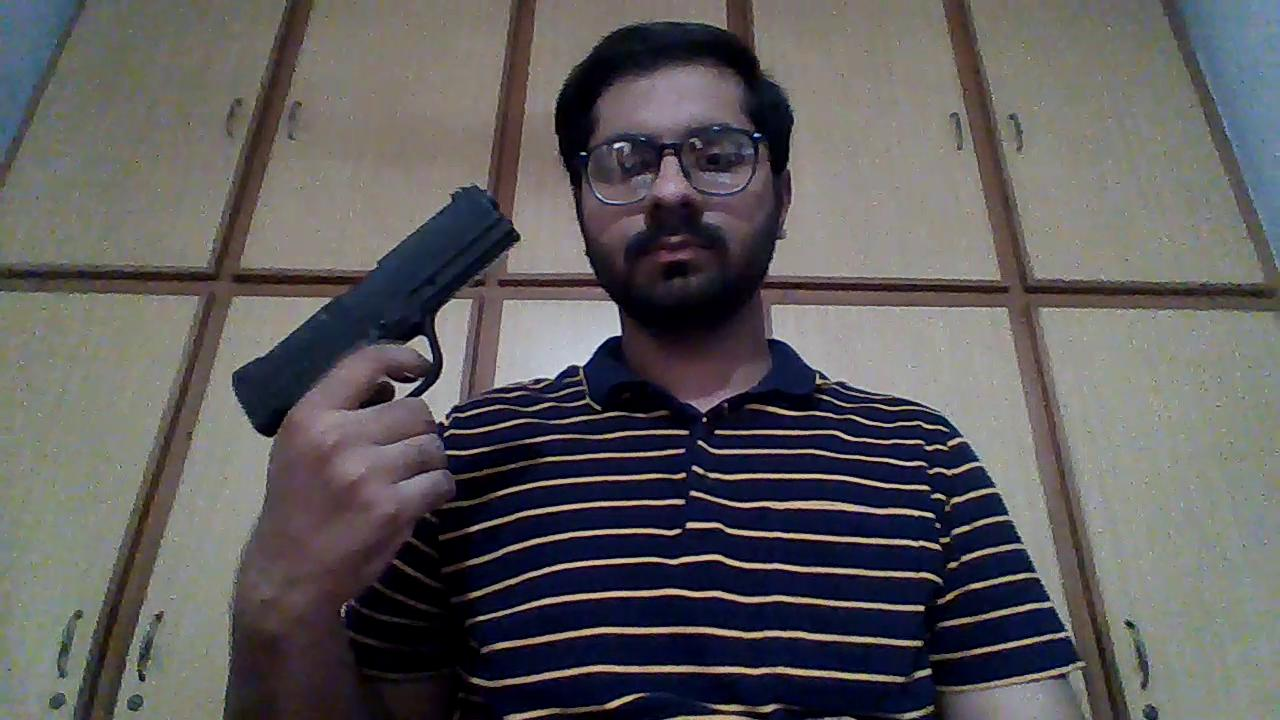criminal: (221, 19, 1095, 720)
weapon: (228, 179, 524, 440)
